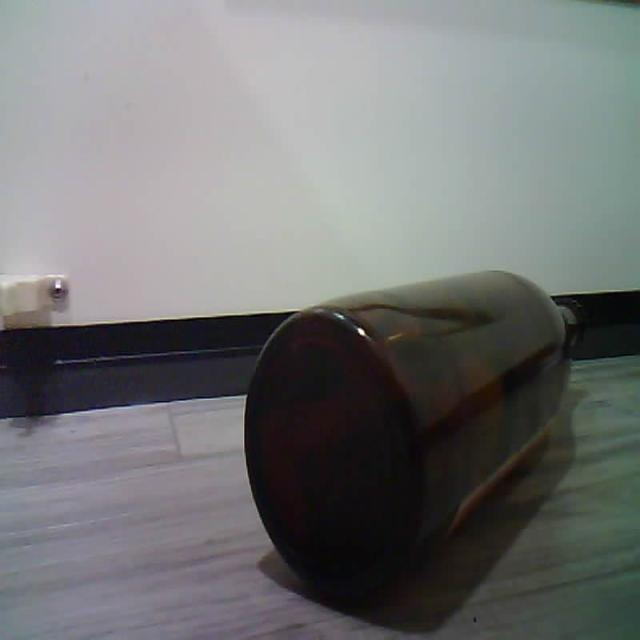bottle: (244, 271, 585, 599)
